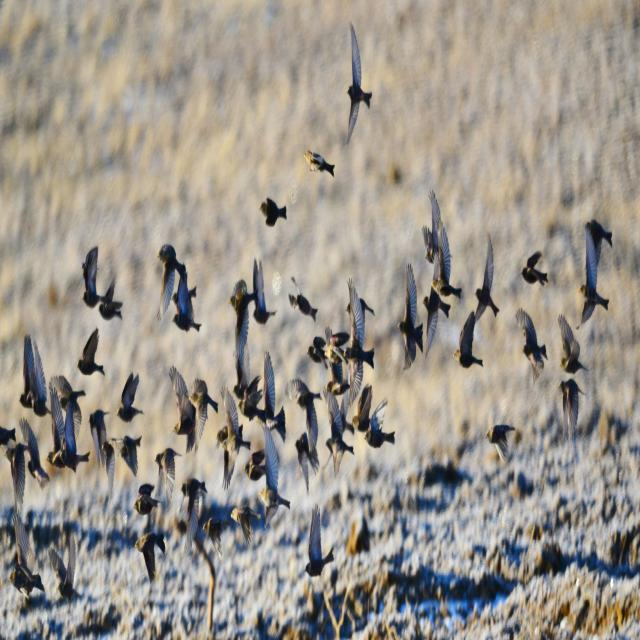bird: (344, 274, 375, 406), (216, 385, 253, 495), (250, 344, 288, 440), (396, 260, 426, 380), (322, 392, 356, 488), (513, 304, 550, 390), (427, 207, 460, 300), (470, 235, 500, 335), (9, 517, 42, 606), (348, 18, 372, 140), (262, 423, 289, 525), (169, 361, 197, 457), (304, 503, 334, 587), (556, 377, 588, 453), (0, 430, 28, 516), (421, 292, 448, 380), (49, 531, 83, 600), (582, 232, 608, 321), (158, 246, 188, 320), (178, 479, 207, 551), (22, 411, 48, 487), (250, 259, 279, 327), (454, 316, 484, 378), (292, 432, 322, 493), (232, 337, 260, 402), (17, 329, 41, 403), (87, 405, 113, 469), (200, 510, 232, 562), (133, 522, 162, 577), (558, 329, 588, 381), (486, 416, 516, 466), (46, 431, 80, 474), (116, 373, 144, 424), (58, 380, 86, 430), (77, 330, 105, 379), (80, 248, 102, 310), (322, 318, 350, 366), (99, 439, 120, 502), (521, 250, 551, 291), (585, 211, 614, 253), (173, 291, 200, 336), (227, 499, 255, 542), (228, 284, 250, 338), (349, 391, 374, 433), (243, 447, 269, 487), (296, 382, 320, 425), (368, 413, 394, 452), (323, 358, 347, 398), (191, 379, 216, 417), (132, 481, 158, 517), (286, 292, 318, 321), (120, 435, 142, 474), (98, 289, 123, 323), (262, 198, 288, 229), (306, 152, 336, 178), (155, 446, 179, 477), (32, 388, 51, 422), (307, 335, 328, 364)
